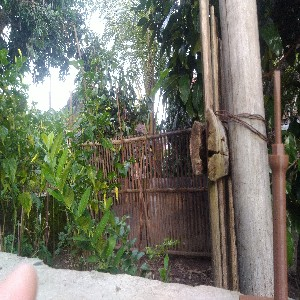obeng: (268, 69, 289, 300)
